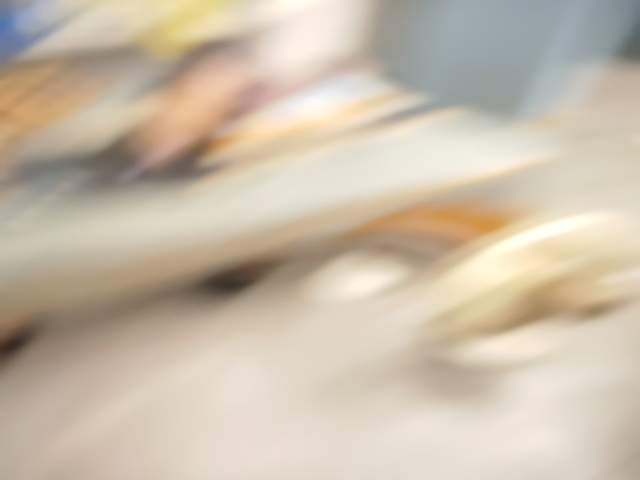pothole: (139, 268, 418, 469)
